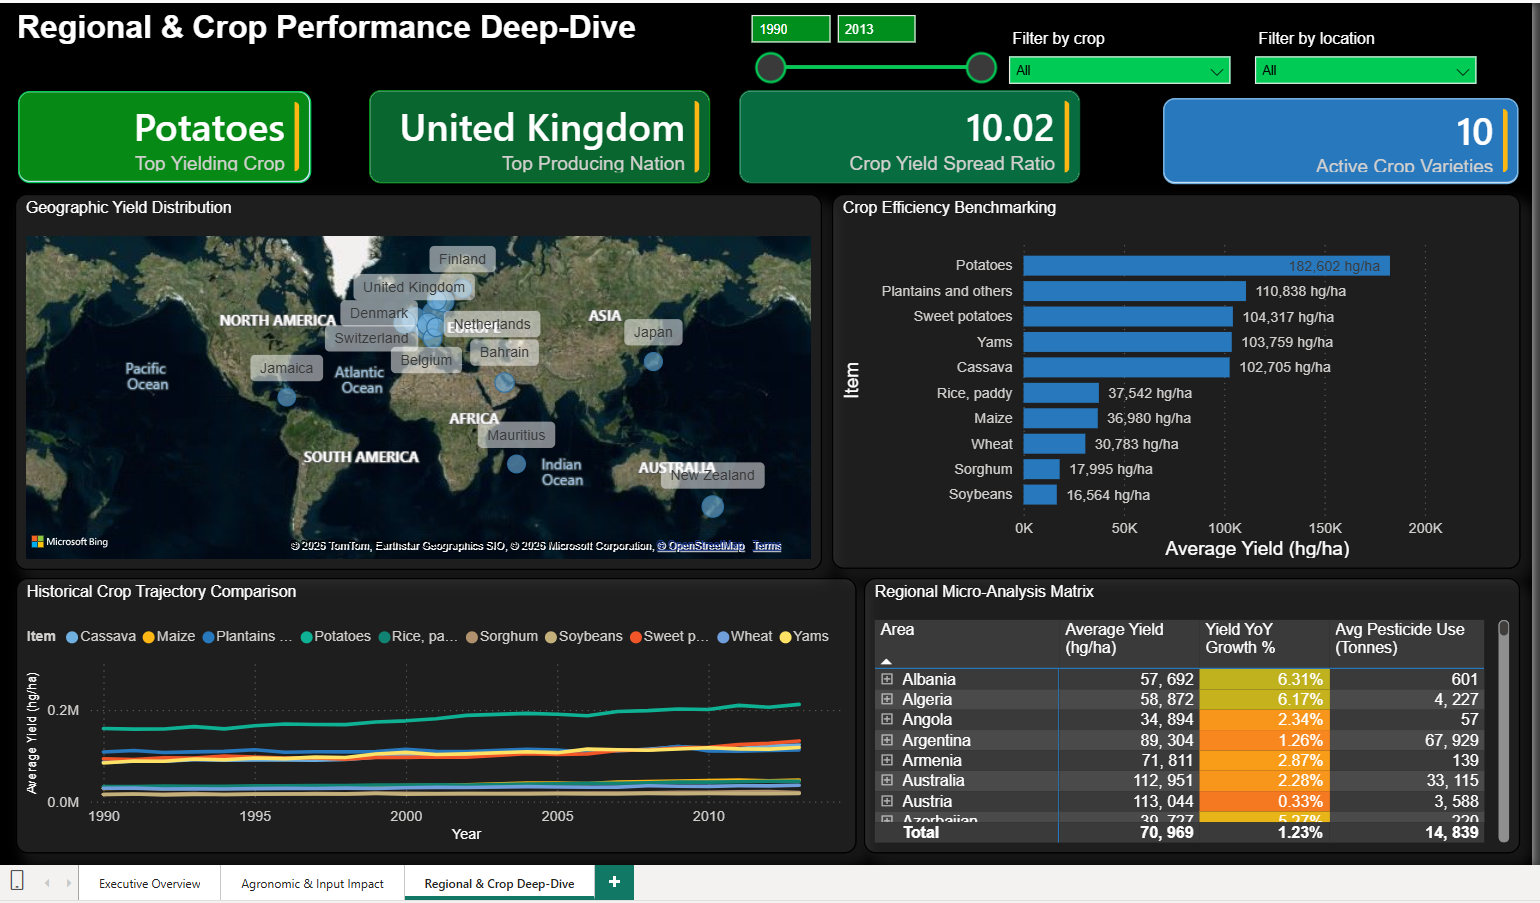

Layout of this report page (visuals, bound fields, positions):
{"tool":"powerbi","page":{"name":"Regional & Crop Deep-Dive","canvas":[1280,720],"ordinal":2},"visuals":[{"type":"textbox","box":[9.2,0,542.1,47.6],"z":0},{"type":"slicer","fields":{"Values":["Dim_Date.Year"]},"box":[615,0,225.5,75.2],"z":1000},{"type":"cardVisual","fields":{"Data":["_Measures.Top Yield Crop"]},"box":[15,73.9,244.8,76.8],"z":2000,"group":"g1"},{"type":"map","title":"Geographic Yield Distribution","fields":{"Category":["Dim_Location.Area"],"Size":["_Measures.Average Yield (hg/ha)"]},"box":[12.5,159.5,674.1,314.1],"z":2000},{"type":"clusteredBarChart","title":"Crop Efficiency Benchmarking","fields":{"Y":["_Measures.Average Yield (hg/ha)"],"Category":["Dim_Crop.Item"]},"box":[694.9,159.5,574.7,313.2],"z":3000},{"type":"lineChart","title":"Historical Crop Trajectory Comparison","fields":{"Category":["Dim_Date.Year"],"Y":["_Measures.Average Yield (hg/ha)"],"Series":["Dim_Crop.Item"]},"box":[13.4,480.3,702.5,229.7],"z":4000},{"type":"pivotTable","title":"Regional Micro-Analysis Matrix","fields":{"Rows":["Dim_Location.Area","Dim_Crop.Item"],"Values":["_Measures.Average Yield (hg/ha)","_Measures.Yield YoY Growth %","_Measures.Total Pesticides (Tonnes)"]},"box":[721.7,480.3,547.9,229.7],"z":5000},{"type":"slicer","fields":{"Values":["Dim_Crop.Item"]},"box":[832.8,17.3,205,63.3],"z":6000},{"type":"slicer","fields":{"Values":["Dim_Location.Area"]},"box":[1038.5,17.3,205,63.3],"z":7000},{"type":"group","id":"g1","title":"Group 1","box":[15,72.8,1253.7,78.5],"z":8000},{"type":"cardVisual","fields":{"Data":["_Measures.Top Yield Country"]},"box":[308.3,72.9,285.3,78.4],"z":8000,"group":"g1"},{"type":"cardVisual","fields":{"Data":["_Measures.Yield Variance %"]},"box":[616.9,72.8,285.3,78.4],"z":9000,"group":"g1"},{"type":"cardVisual","fields":{"Data":["Count(Dim_Crop.Item)"]},"box":[971.6,79.2,297.2,72],"z":10000,"group":"g1"}]}

Visuals, with their boxes on the page's 1280x720 design canvas (x1, y1, x2, y2). These are canvas units, not pixel positions in the 1540x903 screenshot, which may show the page scaled, cropped or inside an application window:
textbox: <bbox>9, 0, 551, 48</bbox>
slicer - Dim_Date.Year: <bbox>615, 0, 840, 75</bbox>
cardVisual - _Measures.Top Yield Crop: <bbox>15, 74, 260, 151</bbox>
"Geographic Yield Distribution" map: <bbox>12, 160, 687, 474</bbox>
"Crop Efficiency Benchmarking" clusteredBarChart: <bbox>695, 160, 1270, 473</bbox>
"Historical Crop Trajectory Comparison" lineChart: <bbox>13, 480, 716, 710</bbox>
"Regional Micro-Analysis Matrix" pivotTable: <bbox>722, 480, 1270, 710</bbox>
slicer - Dim_Crop.Item: <bbox>833, 17, 1038, 81</bbox>
slicer - Dim_Location.Area: <bbox>1038, 17, 1244, 81</bbox>
"Group 1" group: <bbox>15, 73, 1269, 151</bbox>
cardVisual - _Measures.Top Yield Country: <bbox>308, 73, 594, 151</bbox>
cardVisual - _Measures.Yield Variance %: <bbox>617, 73, 902, 151</bbox>
cardVisual - Count(Dim_Crop.Item): <bbox>972, 79, 1269, 151</bbox>
